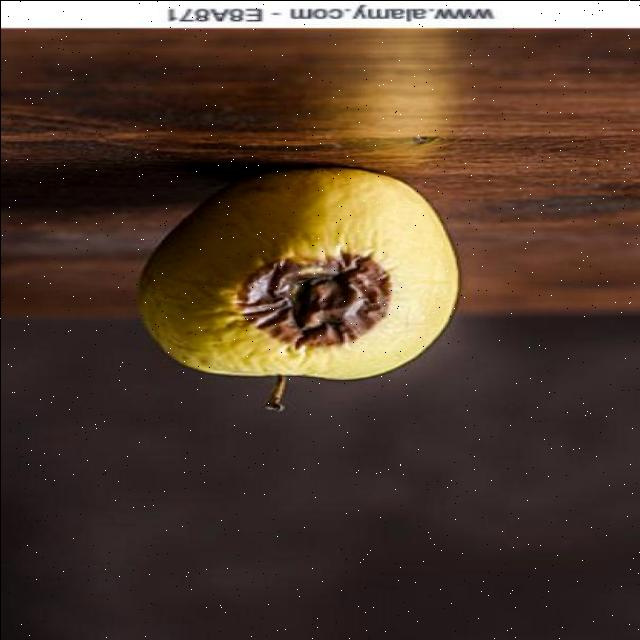ROT: (113, 158, 523, 415)
